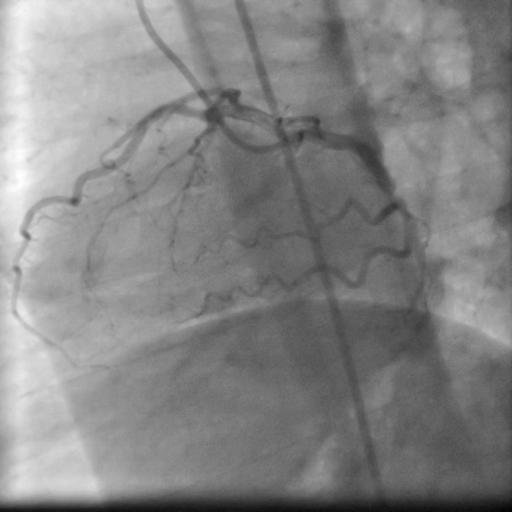Stenosis: (383, 188, 400, 202)
